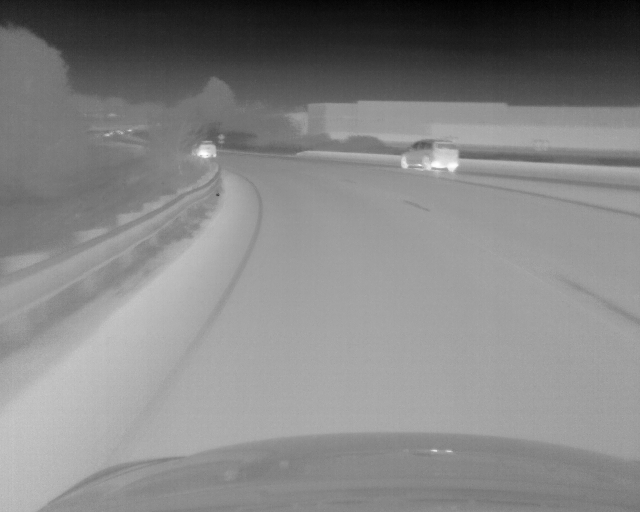car: (399, 138, 460, 171), (196, 139, 218, 157)
